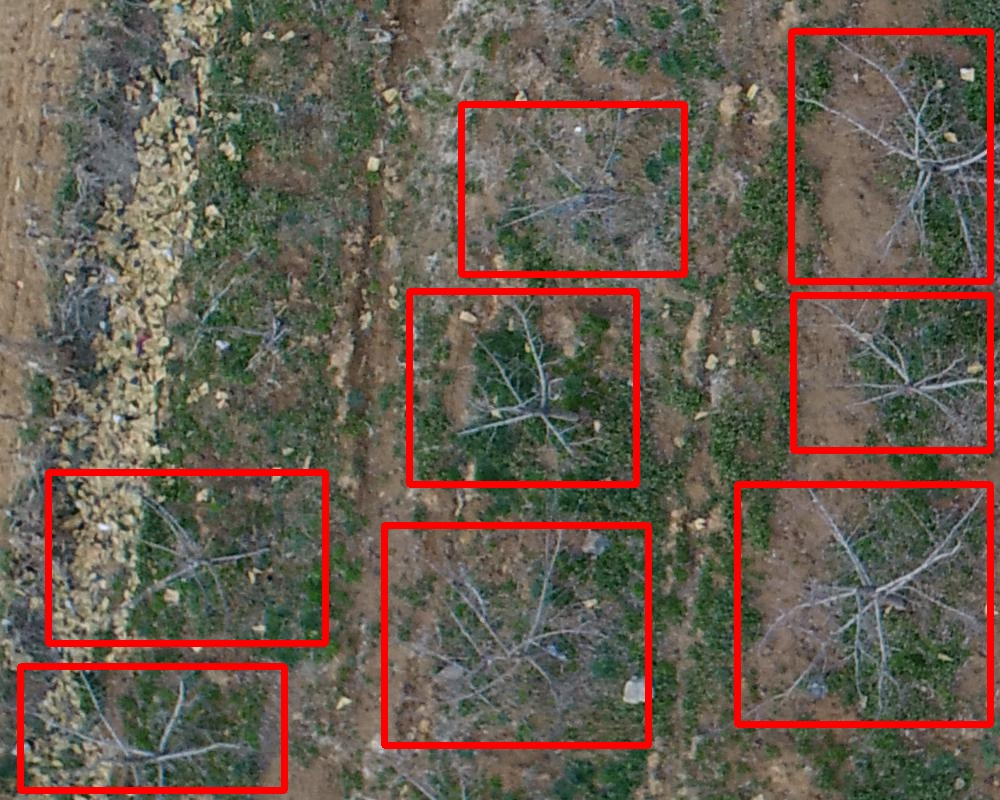apple: (737, 484, 990, 724), (384, 525, 648, 745), (791, 31, 990, 281), (48, 472, 325, 643), (409, 291, 636, 484), (461, 104, 684, 274), (20, 666, 284, 790), (793, 295, 990, 450)
